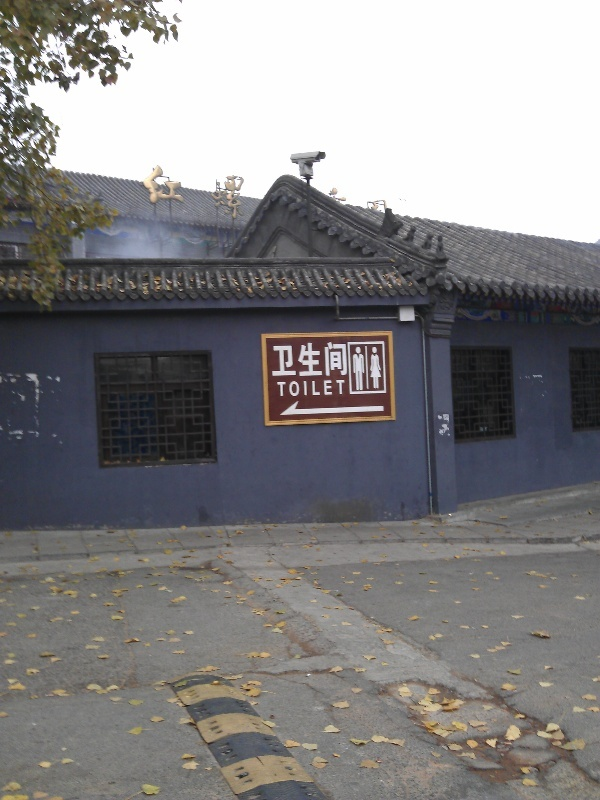text: (161, 163, 176, 221), (177, 163, 192, 221), (193, 163, 208, 221), (209, 163, 224, 221), (225, 163, 240, 221), (146, 163, 160, 221), (241, 163, 254, 221), (273, 341, 288, 378), (289, 341, 304, 378), (305, 341, 320, 378), (321, 341, 336, 378), (337, 341, 348, 378), (289, 380, 304, 397), (305, 380, 320, 397), (321, 380, 336, 397), (278, 380, 288, 397), (337, 380, 346, 397), (271, 341, 272, 378)
